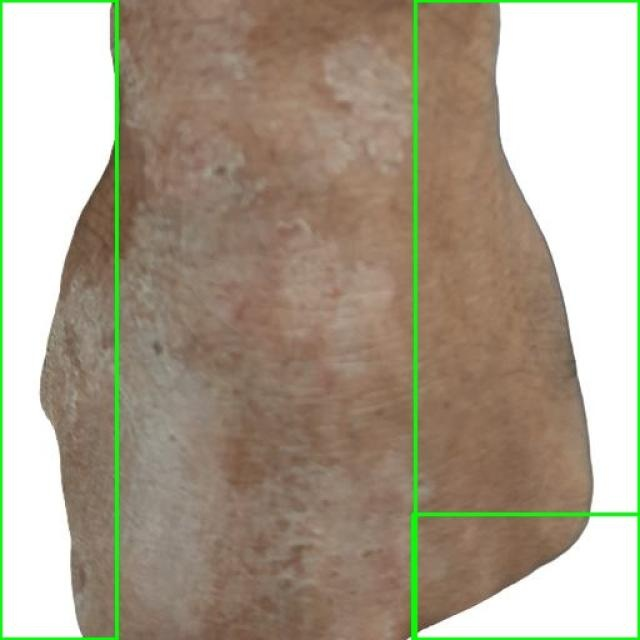Tinea Corporis: (415, 0, 639, 639), (0, 0, 116, 639), (412, 514, 639, 639)
